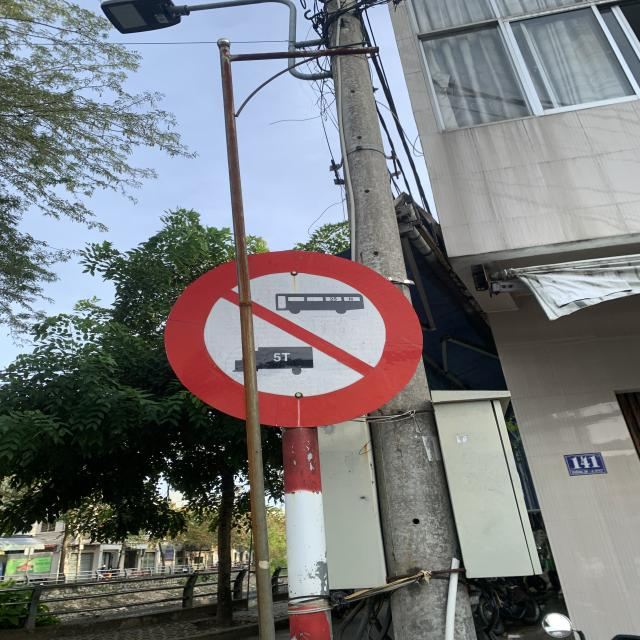Cam_XeTai_XeKhach: (166, 248, 426, 430)
